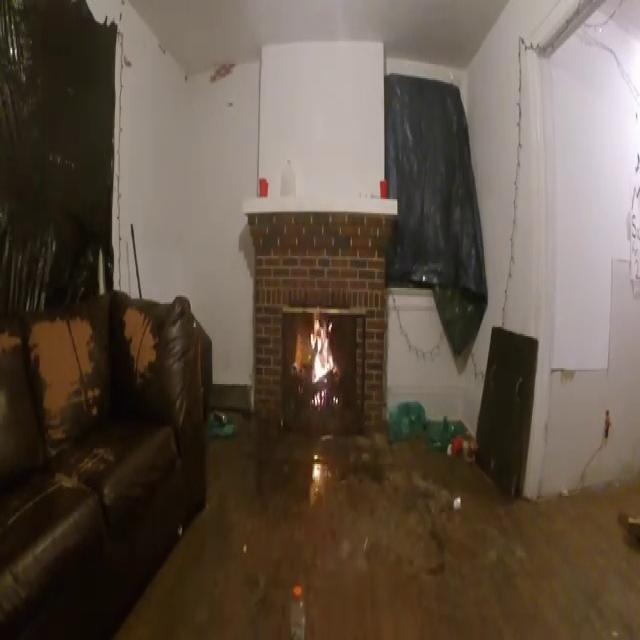fire: (297, 306, 340, 413)
